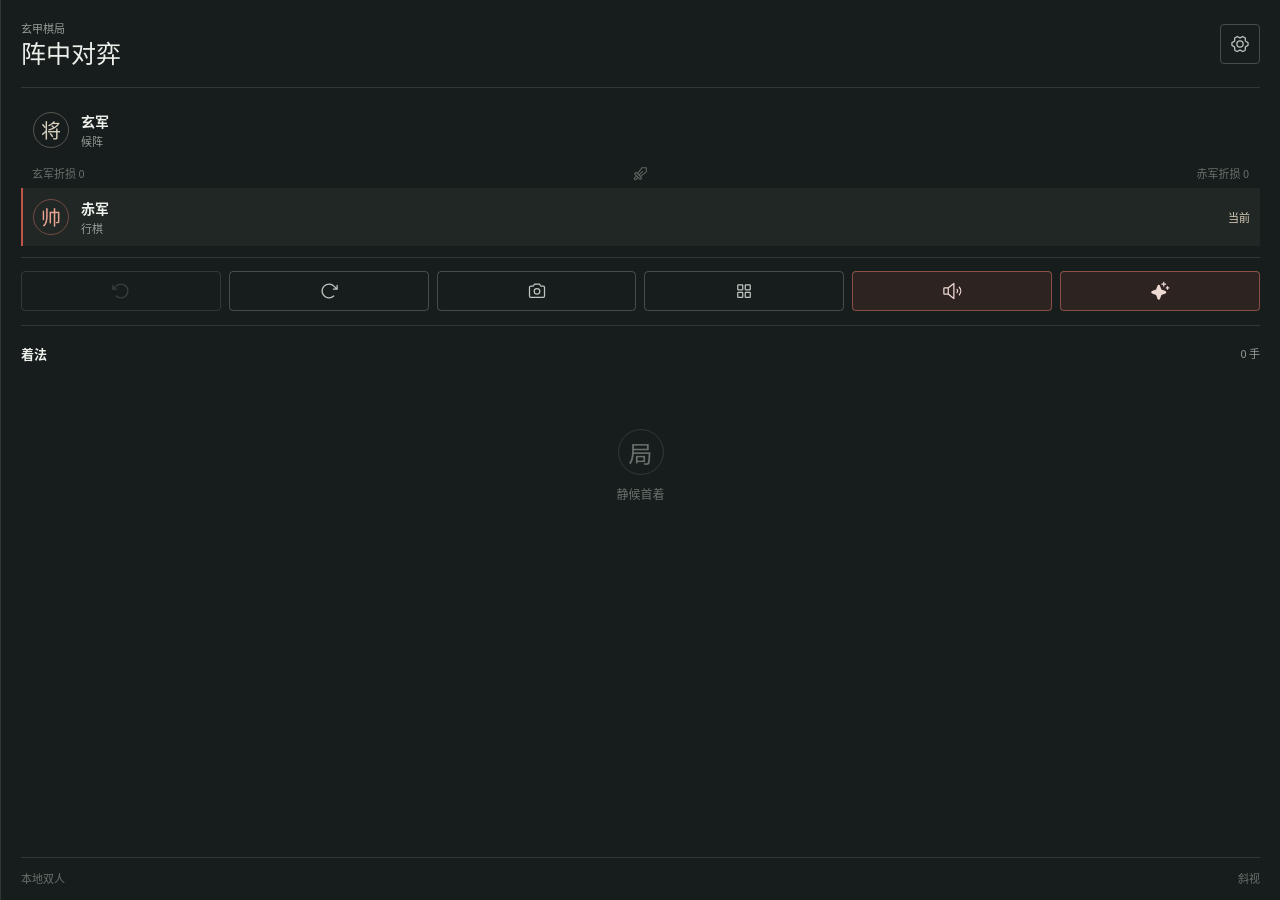
Test: game record tools › disables copying the game record before any move
Click the button named "打开设置": {"x": 1240, "y": 44} [1220, 24, 1260, 64]
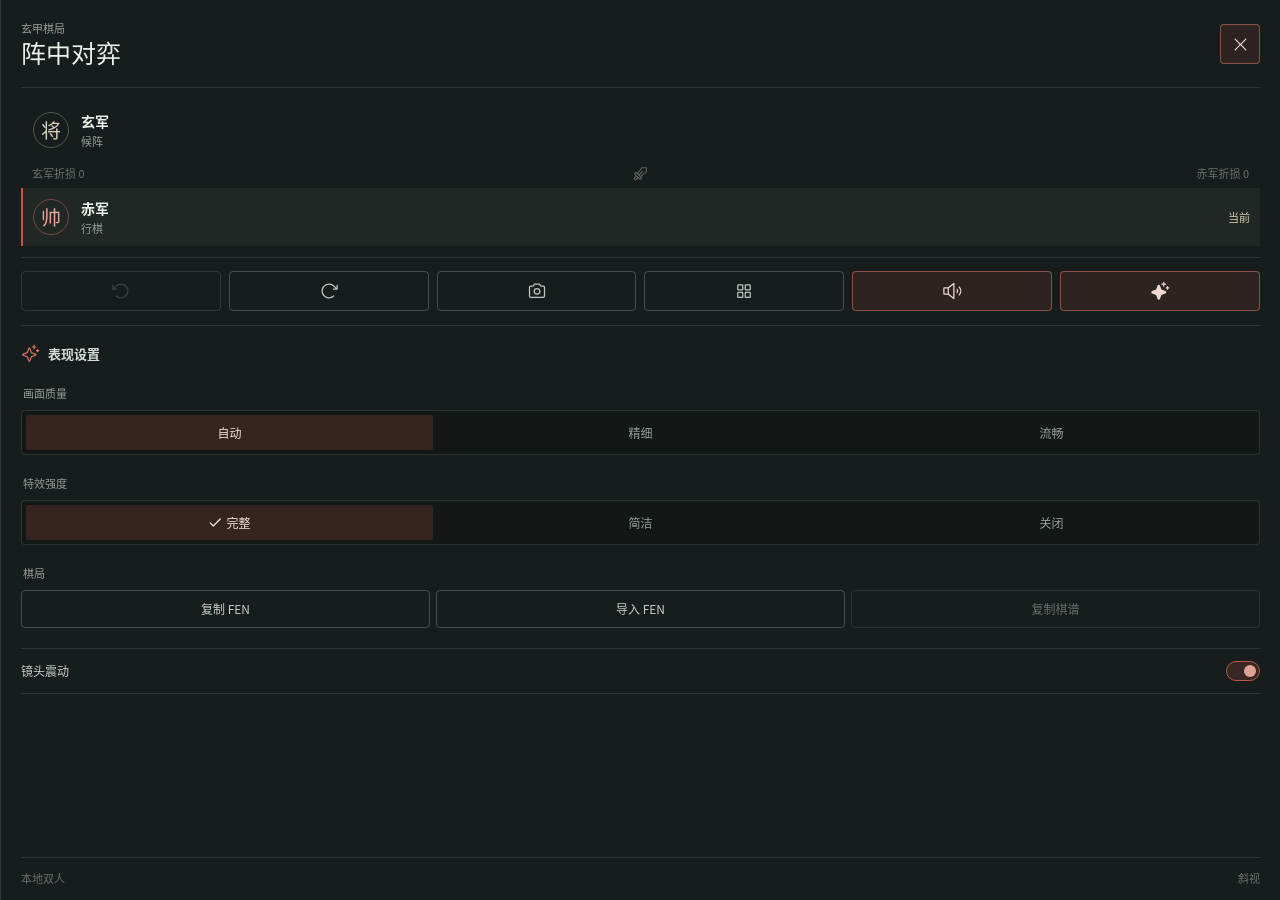
Expected: the button "复制棋谱" is disabled, [851, 590, 1260, 628]
Expected: the button "复制 FEN" is enabled, [21, 590, 430, 628]
